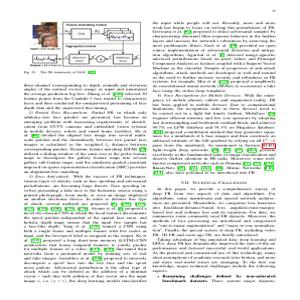diagram: (22, 18, 146, 69)
text: (21, 82, 149, 288), (151, 19, 279, 176), (152, 179, 278, 288)
